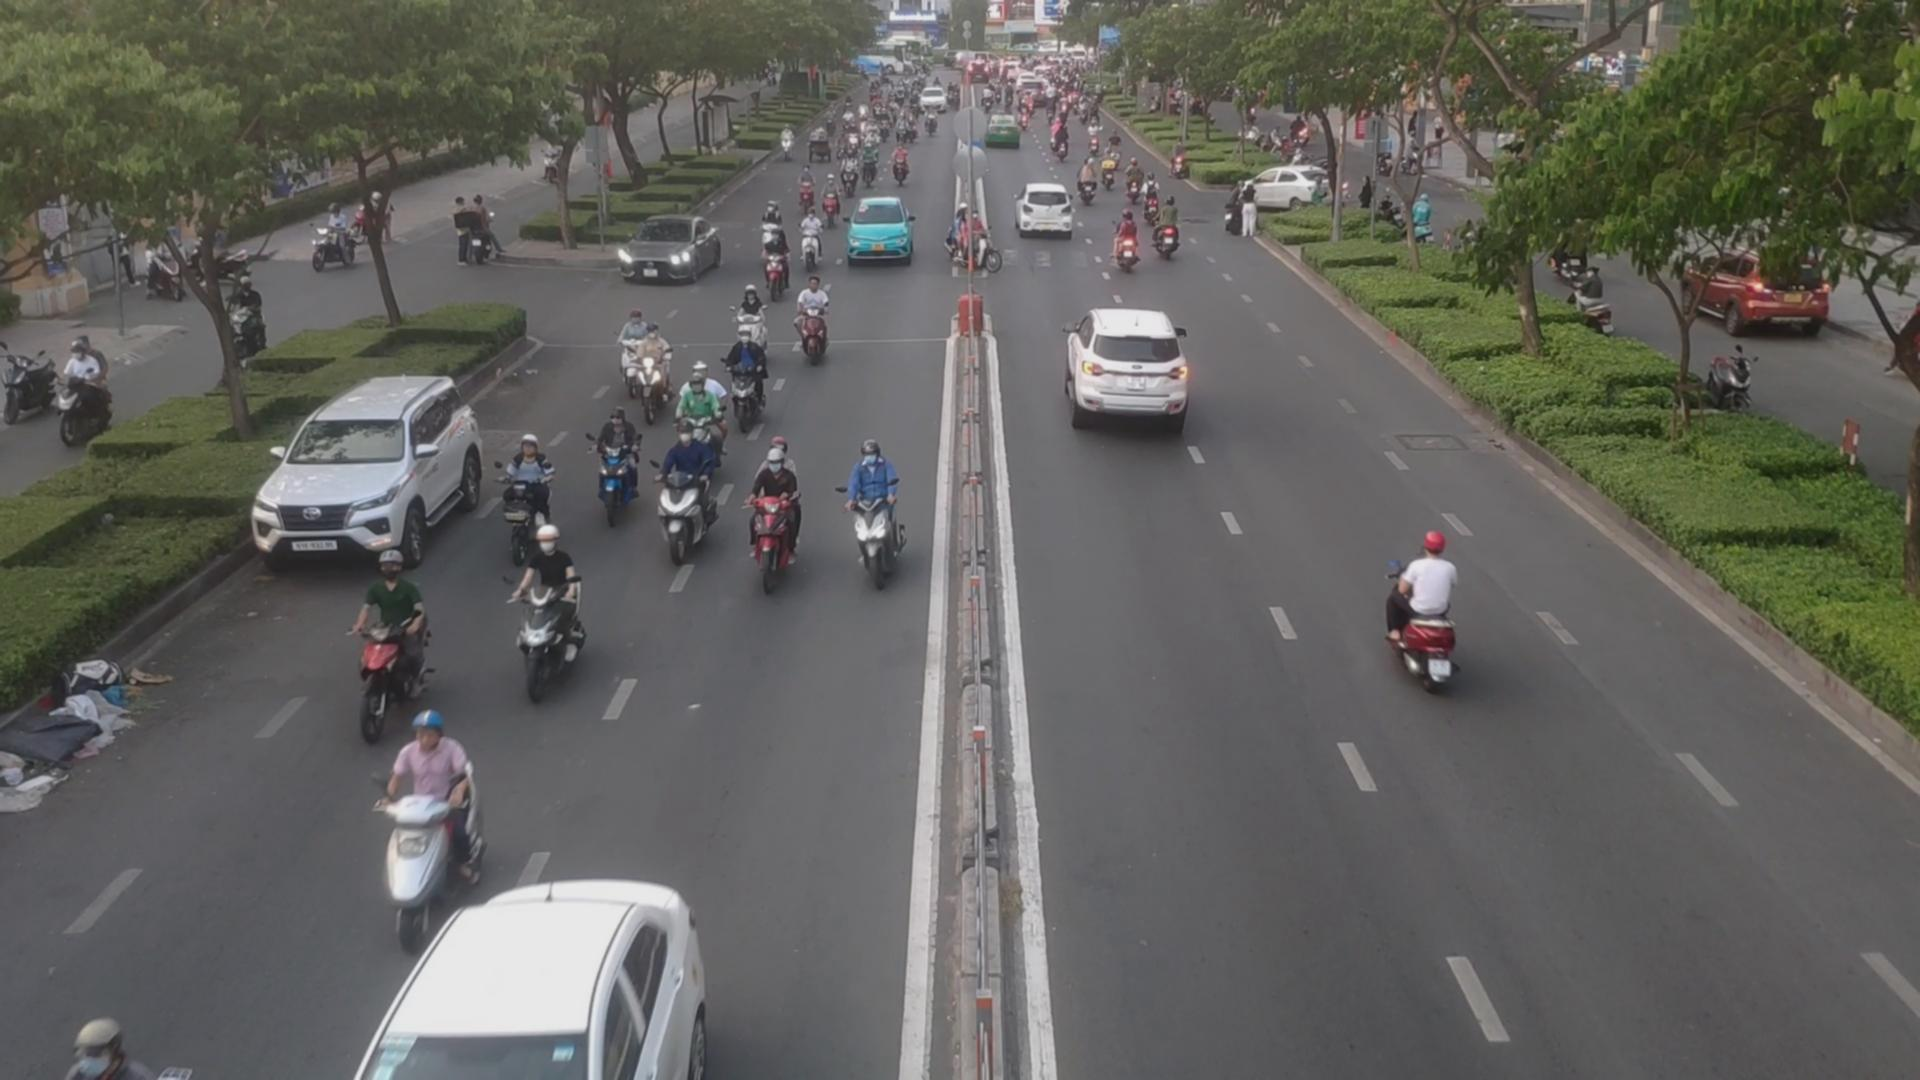car: (344, 876, 700, 1077), (262, 364, 489, 570), (1069, 311, 1193, 415), (618, 219, 729, 287), (1238, 165, 1335, 216), (843, 196, 913, 266), (1015, 185, 1077, 241)
motorbike: (376, 699, 483, 952), (469, 433, 564, 567), (351, 570, 425, 729), (1377, 520, 1455, 670), (852, 448, 920, 593), (516, 584, 593, 698), (647, 434, 713, 563), (584, 402, 638, 530), (704, 332, 762, 433), (680, 367, 736, 456), (750, 489, 803, 572), (945, 200, 1011, 266), (632, 316, 667, 430), (800, 280, 837, 376), (729, 295, 767, 367), (611, 307, 641, 396), (1109, 218, 1155, 276), (800, 208, 828, 276), (765, 237, 794, 299), (750, 196, 781, 255), (1159, 200, 1188, 260), (1071, 157, 1100, 200), (796, 169, 822, 216), (820, 182, 843, 220), (1126, 157, 1145, 203), (1145, 174, 1159, 224), (843, 160, 858, 191)
